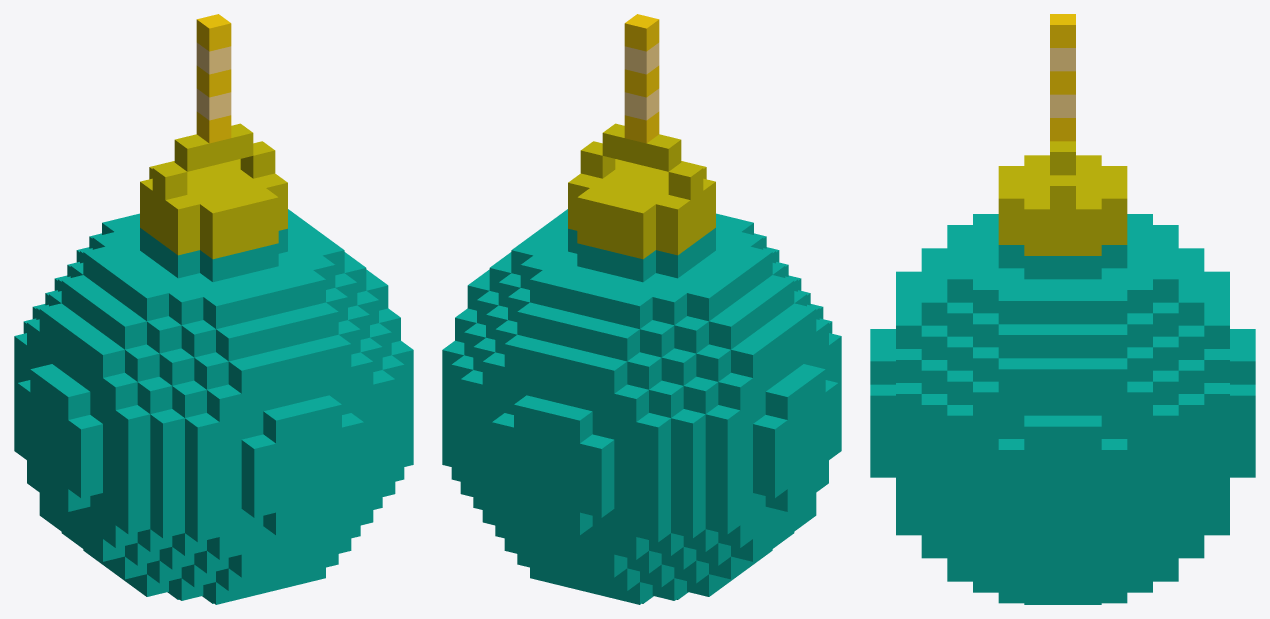
File: Christmas Ball Blue.fbx
The picture shows the model from 3 angles, left to right: view 1: azimuth 30°, elevation 25°; view 2: azimuth 150°, elevation 25°; view 3: azimuth 270°, elevation 25°; orthographic projection.
Parts seen in each view (by area): view 1: Untitled; view 2: Untitled; view 3: Untitled.
Boxes of the visible parts, <box> form: Untitled: <box>14,14,413,604</box>; Untitled: <box>442,14,841,604</box>; Untitled: <box>870,14,1255,604</box>.
Size of the model in its own units: 150 by 240 by 150.
